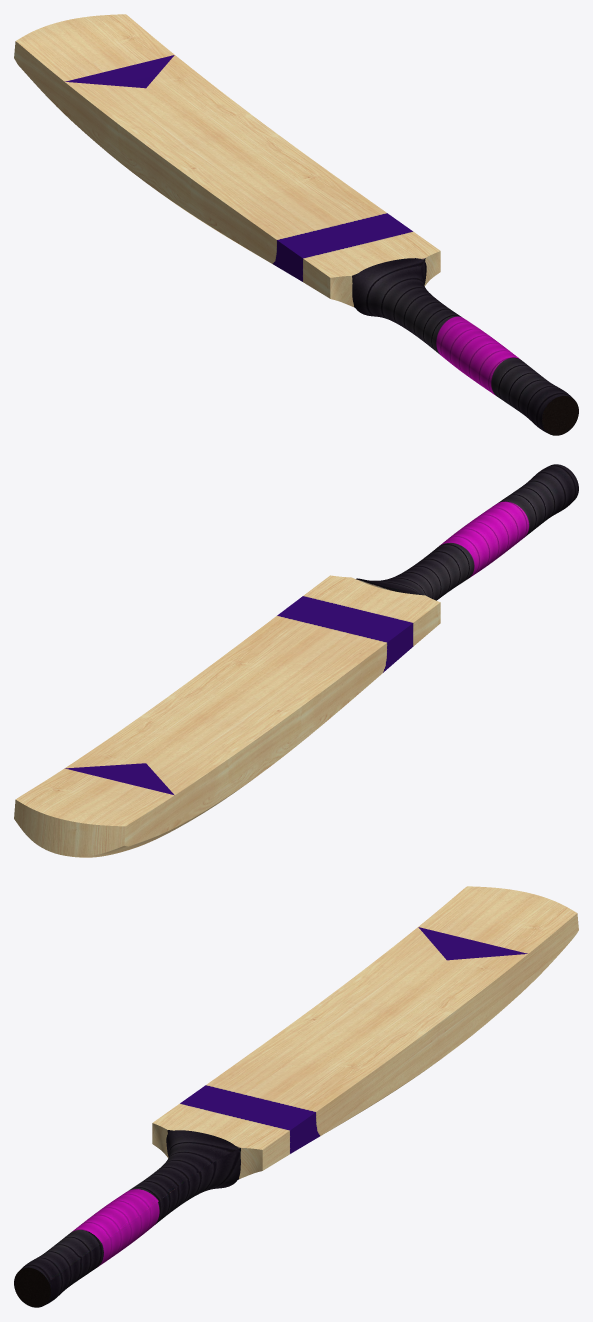
The model's file is Bat_Cricket X.fbx.
3 views of the same model, one above another, from view 1: azimuth 30°, elevation 25°; view 2: azimuth 150°, elevation 25°; view 3: azimuth 330°, elevation 25° (orthographic).
Parts seen in each view (by area): view 1: 11716_bat_v1_l3; view 2: 11716_bat_v1_l3; view 3: 11716_bat_v1_l3.
Part boxes in pixels (x1,y1,x2,y2): 11716_bat_v1_l3: [14, 14, 578, 435]; 11716_bat_v1_l3: [14, 464, 578, 857]; 11716_bat_v1_l3: [14, 886, 578, 1307].
Size of the model in its own units: 1281 by 863 by 10074.
Materials: 2 (2 with a texture image).
